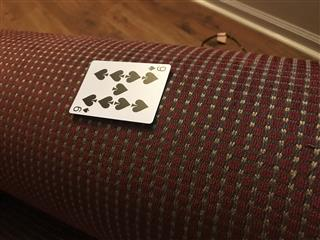NineOfSpades: (67, 59, 172, 124)
